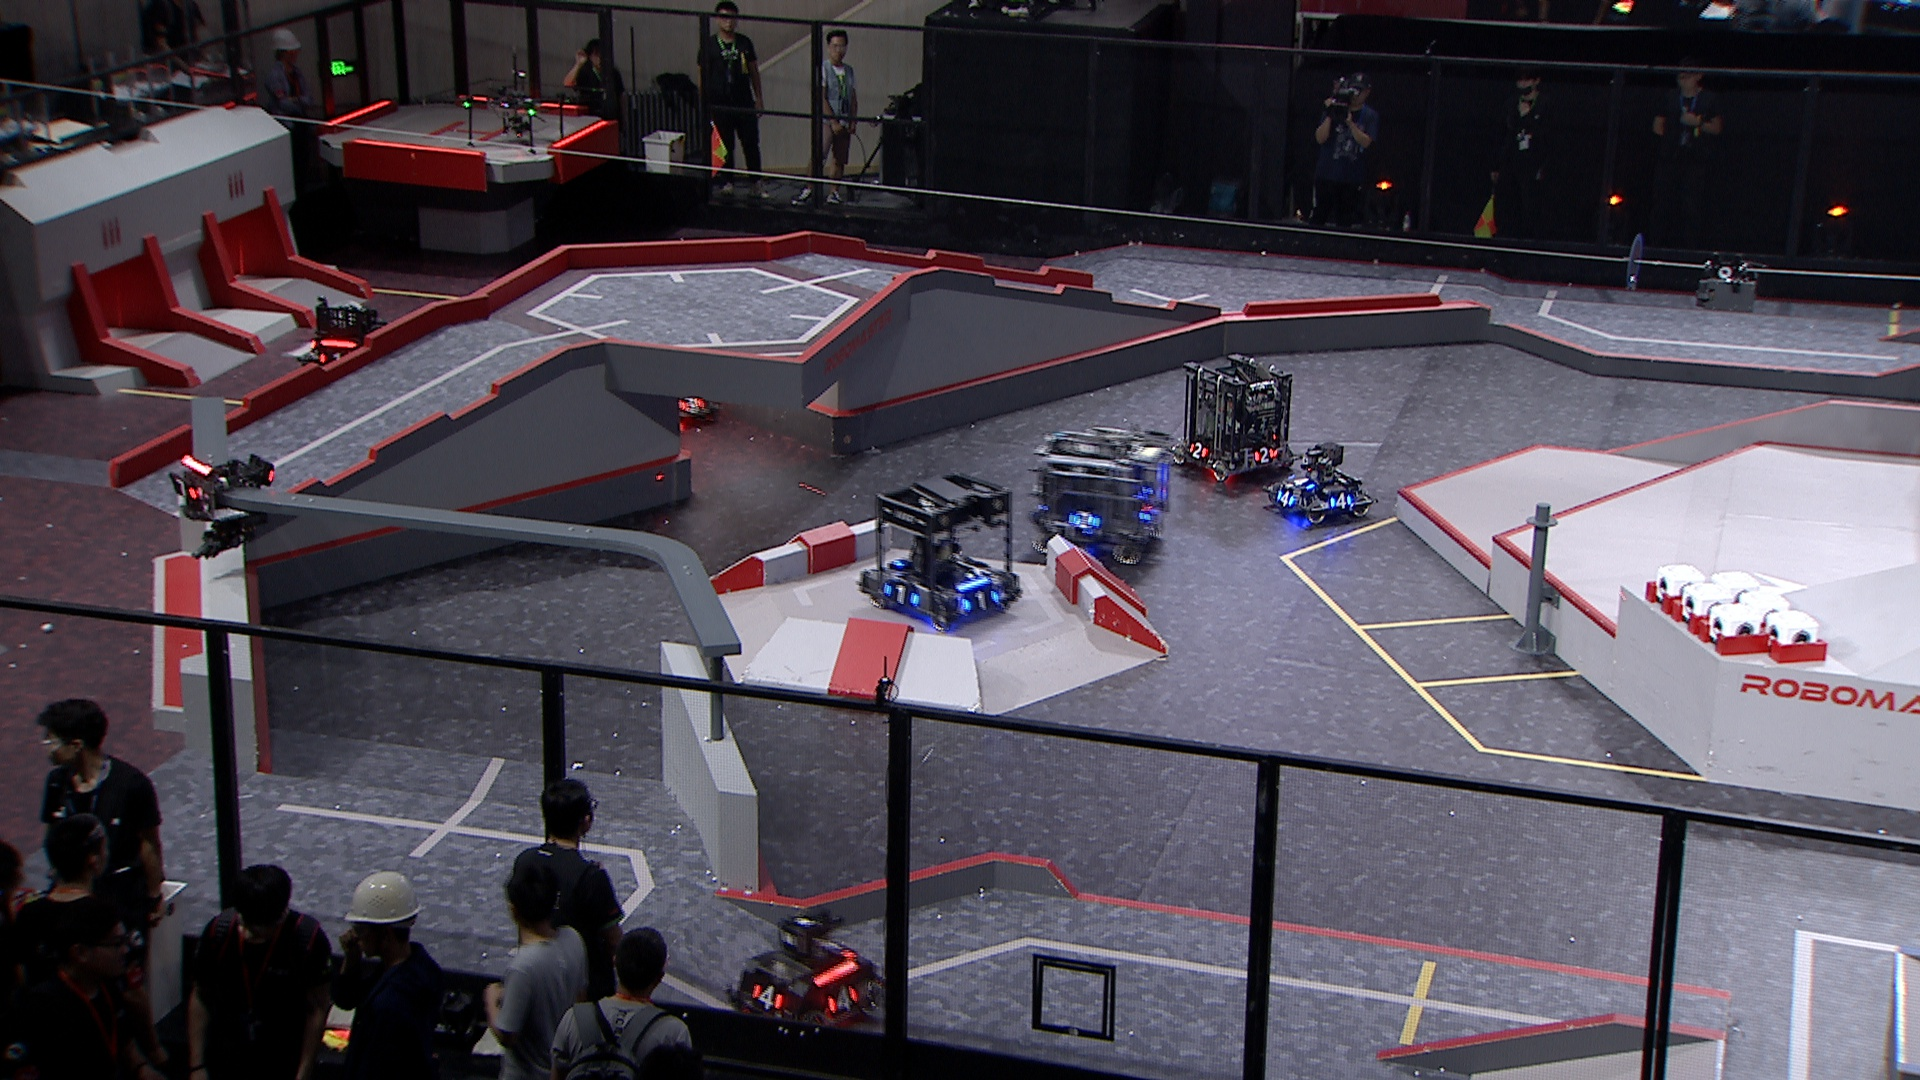armor: (749, 982, 785, 1014), (822, 986, 858, 1015), (880, 584, 920, 608), (960, 591, 1000, 615), (166, 473, 200, 500), (1068, 509, 1101, 531), (678, 396, 708, 417), (1286, 472, 1315, 491), (315, 351, 344, 367), (1273, 488, 1295, 506), (1187, 439, 1209, 458), (1329, 493, 1353, 510), (1253, 446, 1276, 463)
car: (852, 471, 1021, 636), (719, 903, 882, 1035), (1027, 427, 1172, 566), (1172, 353, 1295, 485), (1257, 436, 1377, 527), (295, 297, 398, 385), (633, 360, 724, 433)
watcher: (164, 451, 276, 560)
